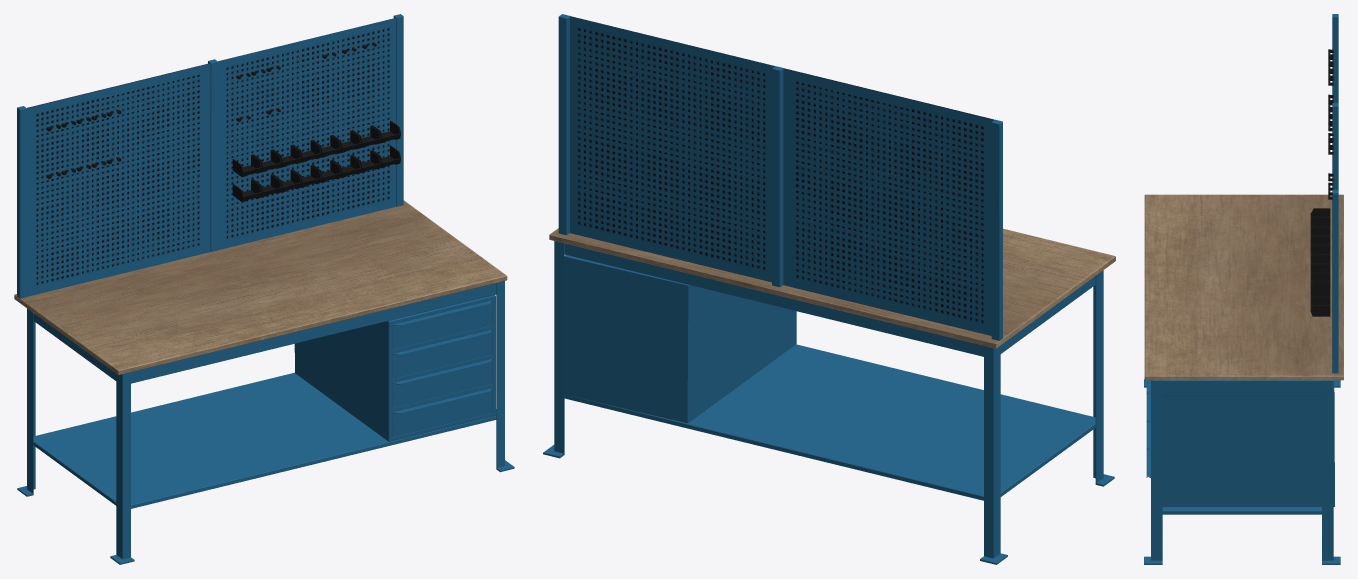
The model's file is work_table_blue_low_poly.glb.
3 views of the same model, side by side, from view 1: azimuth 30°, elevation 25°; view 2: azimuth 150°, elevation 25°; view 3: azimuth 270°, elevation 25° (orthographic). The views are drawn at different scales.
Parts seen in each view (by area): view 1: BancoDaLavoro_0; view 2: BancoDaLavoro_0; view 3: BancoDaLavoro_0.
Part boxes in pixels (box(x1,y1,x2,y2)): BancoDaLavoro_0: box(14, 14, 514, 564); BancoDaLavoro_0: box(543, 14, 1115, 564); BancoDaLavoro_0: box(1144, 14, 1343, 564).
Size of the model in its own units: 1.9 by 1.76 by 0.871.
2 materials, 1 textured.
